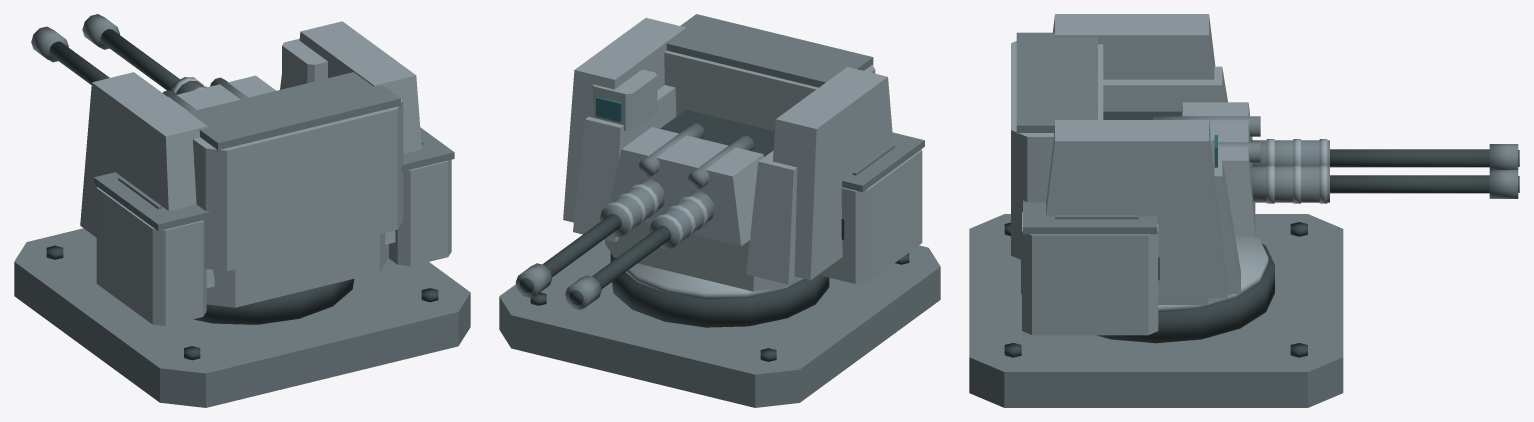
The model's file is MOD_Nobong_U1.fbx.
3 renders of one model, left to right at view 1: azimuth 30°, elevation 25°; view 2: azimuth 150°, elevation 25°; view 3: azimuth 270°, elevation 25°, orthographic. The views are drawn at different scales.
Visible parts, largest first — view 1: DeckAdapter, ArmouredRearEquipmentHouse, OuterArmourShoulder, AmmunitionFeedBox, RearRoof, TurretDriveHousing, OuterArmourShoulder.001, AmmunitionFeedBox.001, TraverseRing, AmmoBoxLid, OpticalSight, FacetedMantlet (+5 smaller); view 2: DeckAdapter, OuterArmourShoulder, FacetedMantlet, AmmunitionFeedBox, RearRoof, ArmouredRearEquipmentHouse, OuterArmourShoulder.001, TraverseRing, AngularShieldCheek, AngularShieldCheek.001, TurretDriveHousing, RingShoulder (+12 smaller); view 3: DeckAdapter, OuterArmourShoulder.001, AmmunitionFeedBox.001, OuterArmourShoulder, RearRoof, ArmouredRearEquipmentHouse, TraverseRing, FacetedMantlet, AngularShieldCheek, GunTube, GunTube.001, AmmoBoxLid.001 (+8 smaller).
Part boxes in pixels (x1,y1,x2,y2): DeckAdapter: [14, 228, 470, 407]; ArmouredRearEquipmentHouse: [193, 99, 403, 271]; OuterArmourShoulder: [80, 72, 214, 284]; AmmunitionFeedBox: [96, 187, 206, 325]; RearRoof: [189, 72, 400, 151]; TurretDriveHousing: [206, 233, 388, 307]; OuterArmourShoulder.001: [299, 21, 421, 240]; AmmunitionFeedBox.001: [389, 159, 451, 266]; TraverseRing: [193, 279, 354, 324]; AmmoBoxLid: [94, 172, 210, 231]; OpticalSight: [282, 38, 327, 87]; FacetedMantlet: [168, 75, 276, 111]; DeckAdapter: [499, 239, 940, 407]; OuterArmourShoulder: [772, 67, 893, 280]; FacetedMantlet: [609, 127, 763, 245]; AmmunitionFeedBox: [819, 149, 922, 283]; RearRoof: [666, 14, 873, 87]; ArmouredRearEquipmentHouse: [664, 50, 875, 130]; OuterArmourShoulder.001: [563, 18, 686, 222]; TraverseRing: [610, 253, 829, 327]; AngularShieldCheek: [746, 150, 797, 284]; AngularShieldCheek.001: [573, 85, 676, 242]; TurretDriveHousing: [605, 222, 799, 291]; RingShoulder: [626, 263, 805, 298]; DeckAdapter: [969, 214, 1343, 407]; OuterArmourShoulder.001: [1046, 120, 1227, 298]; AmmunitionFeedBox.001: [1022, 212, 1158, 335]; OuterArmourShoulder: [1053, 14, 1215, 79]; RearRoof: [1016, 32, 1097, 134]; ArmouredRearEquipmentHouse: [1011, 41, 1103, 259]; TraverseRing: [1097, 243, 1274, 343]; FacetedMantlet: [1181, 102, 1255, 236]; AngularShieldCheek: [1103, 66, 1227, 111]; GunTube: [1330, 149, 1489, 167]; GunTube.001: [1330, 175, 1489, 193]; AmmoBoxLid.001: [1023, 200, 1157, 234].
Size of the model in its own units: 170 by 126 by 250.
